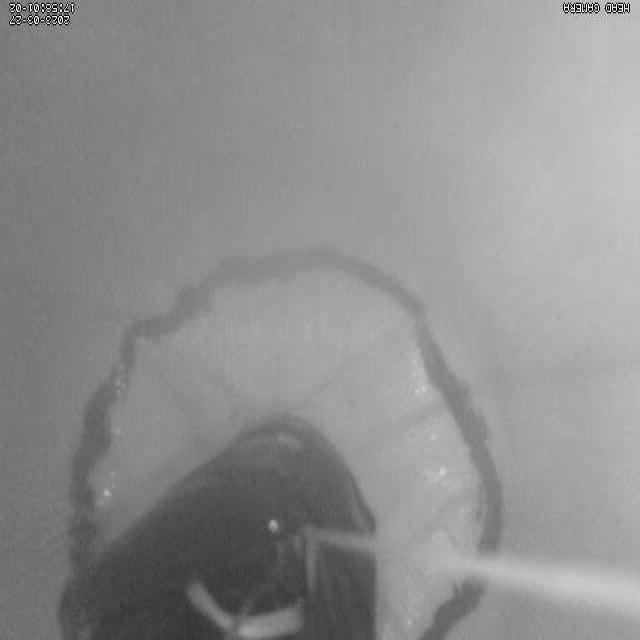red-circle: (66, 248, 504, 640)
